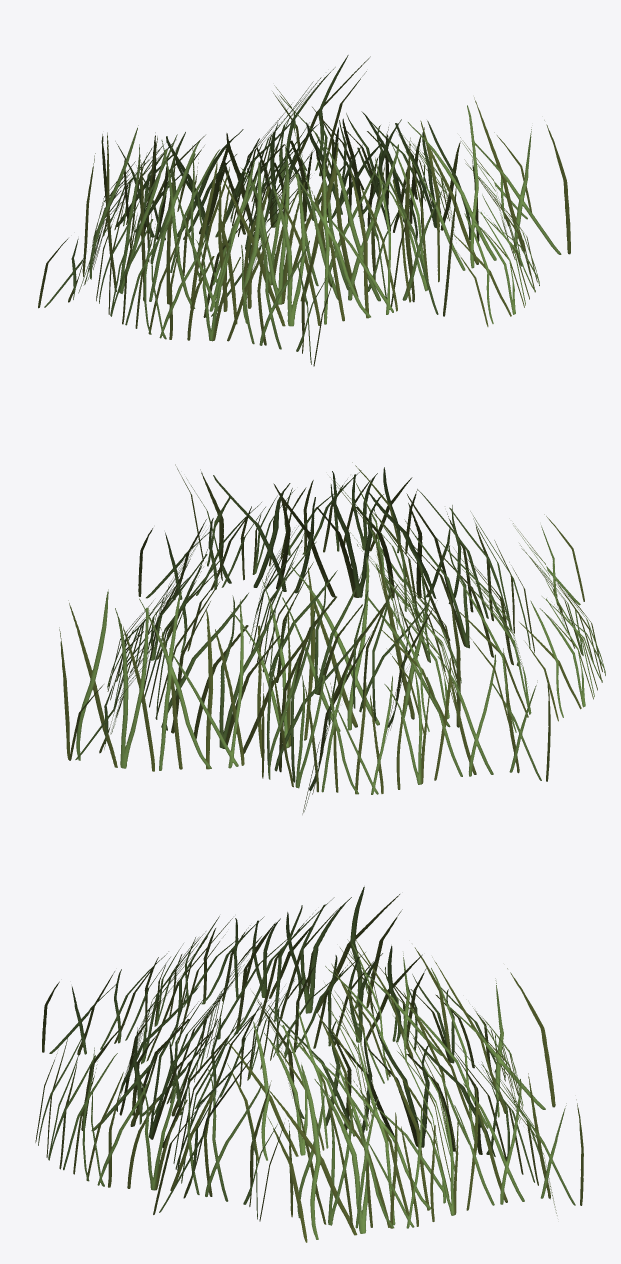
File: Grass_Geo.fbx
3 views of the same model, one above another, from view 1: azimuth 30°, elevation 25°; view 2: azimuth 150°, elevation 25°; view 3: azimuth 270°, elevation 25° (orthographic). The views are drawn at different scales.
Parts seen in each view (by area): view 1: Grass; view 2: Grass; view 3: Grass.
Boxes of the visible parts, x1,y1,x2,y2 form: Grass: (38,55,570,366); Grass: (59,462,605,814); Grass: (35,886,583,1242).
Size of the model in its own units: 82.77 by 31.68 by 80.67.
Materials: 1 (1 with a texture image).
